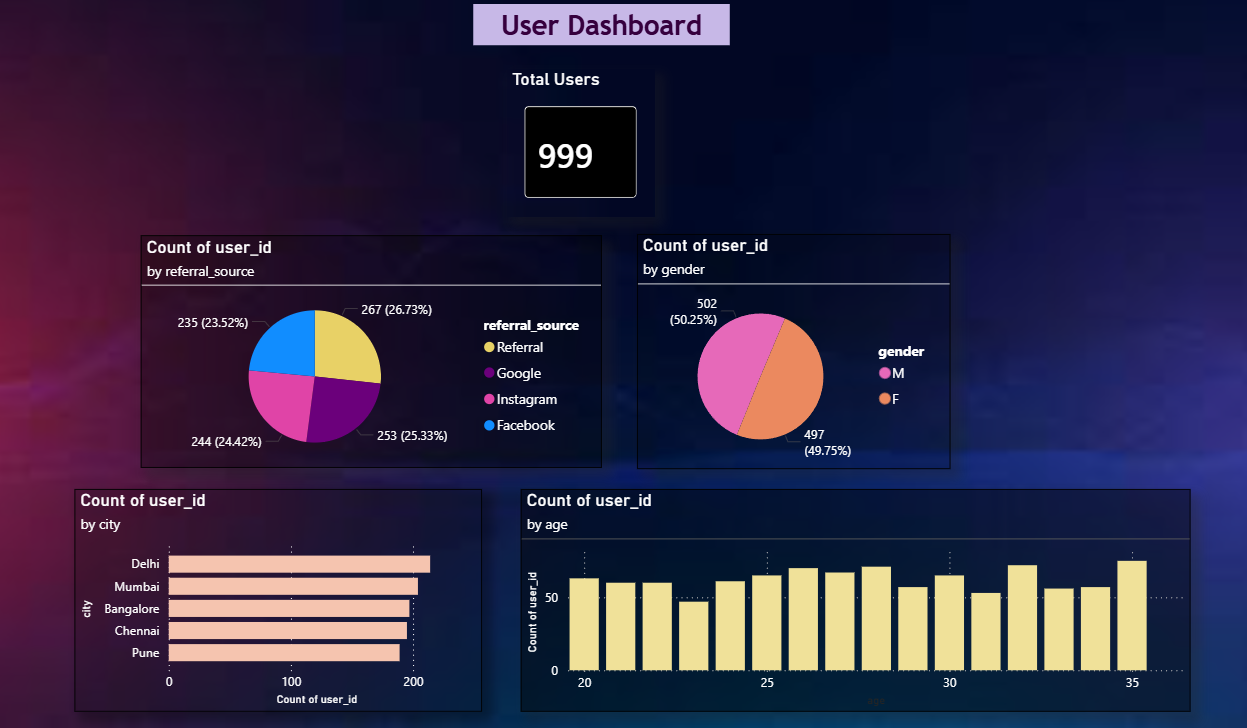

Layout of this report page (visuals, bound fields, positions):
{"tool":"powerbi","page":{"name":"Users Dashboard","canvas":[1280,720],"ordinal":2},"visuals":[{"type":"clusteredBarChart","fields":{"Category":["Users.city"],"Y":["CountNonNull(Users.user_id)"]},"box":[118.8,484.9,395.2,215.8],"z":0},{"type":"clusteredColumnChart","fields":{"Category":["Users.age"],"Y":["CountNonNull(Users.user_id)"]},"box":[551.6,484.9,649.8,215.8],"z":1000},{"type":"pieChart","fields":{"Category":["Users.gender"],"Y":["CountNonNull(Users.user_id)"]},"box":[664.4,237.6,304.3,227.9],"z":2000},{"type":"pieChart","fields":{"Category":["Users.referral_source"],"Y":["CountNonNull(Users.user_id)"]},"box":[183.1,238.8,447.4,225.5],"z":3000},{"type":"textbox","box":[505.6,14.5,248.5,40],"z":4000},{"type":"cardVisual","title":"Total Users","fields":{"Data":["Users.Total Users"]},"box":[538.3,77.6,143.1,143.1],"z":5000}]}

Visuals, with their boxes on the page's 1280x720 design canvas (x1, y1, x2, y2). These are canvas units, not pixel positions in the 1247x728 screenshot, which may show the page scaled, cropped or inside an application window:
clusteredBarChart - Users.city x CountNonNull(Users.user_id): Rect(119, 485, 514, 701)
clusteredColumnChart - Users.age x CountNonNull(Users.user_id): Rect(552, 485, 1201, 701)
pieChart - Users.gender x CountNonNull(Users.user_id): Rect(664, 238, 969, 466)
pieChart - Users.referral_source x CountNonNull(Users.user_id): Rect(183, 239, 630, 464)
textbox: Rect(506, 14, 754, 54)
"Total Users" cardVisual: Rect(538, 78, 681, 221)
